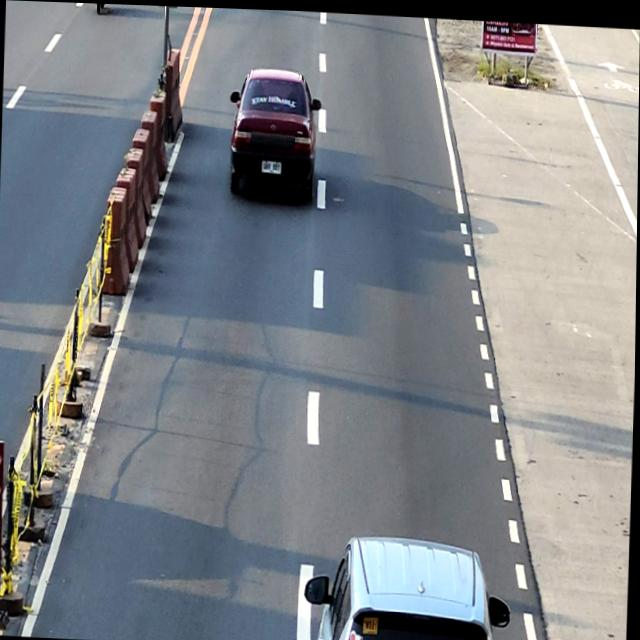Car: (303, 527, 512, 640), (227, 64, 322, 198)
License-Plate: (262, 158, 282, 171)
